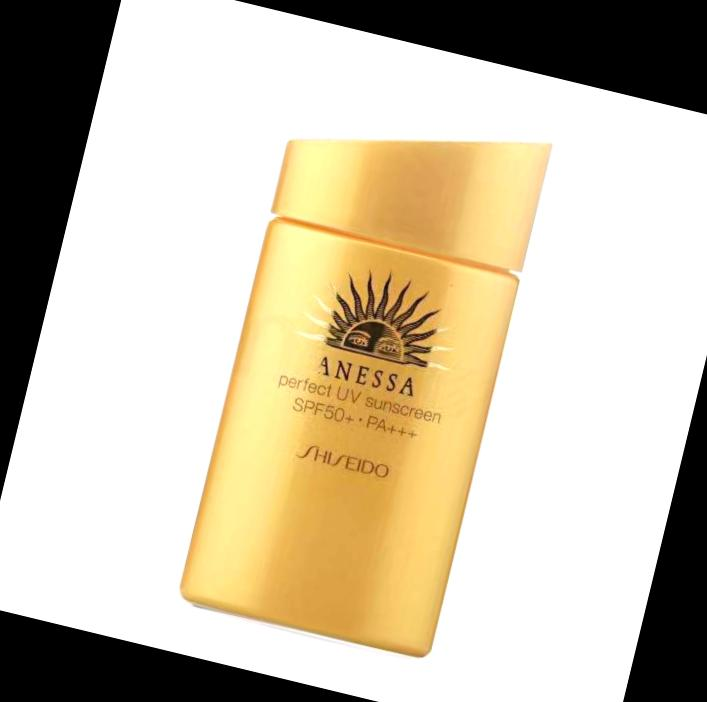cosmetic: (179, 67, 557, 659)
